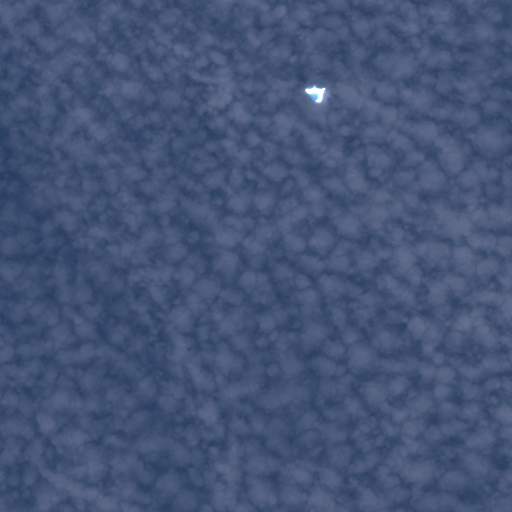Iceberg: (305, 87, 324, 102)
